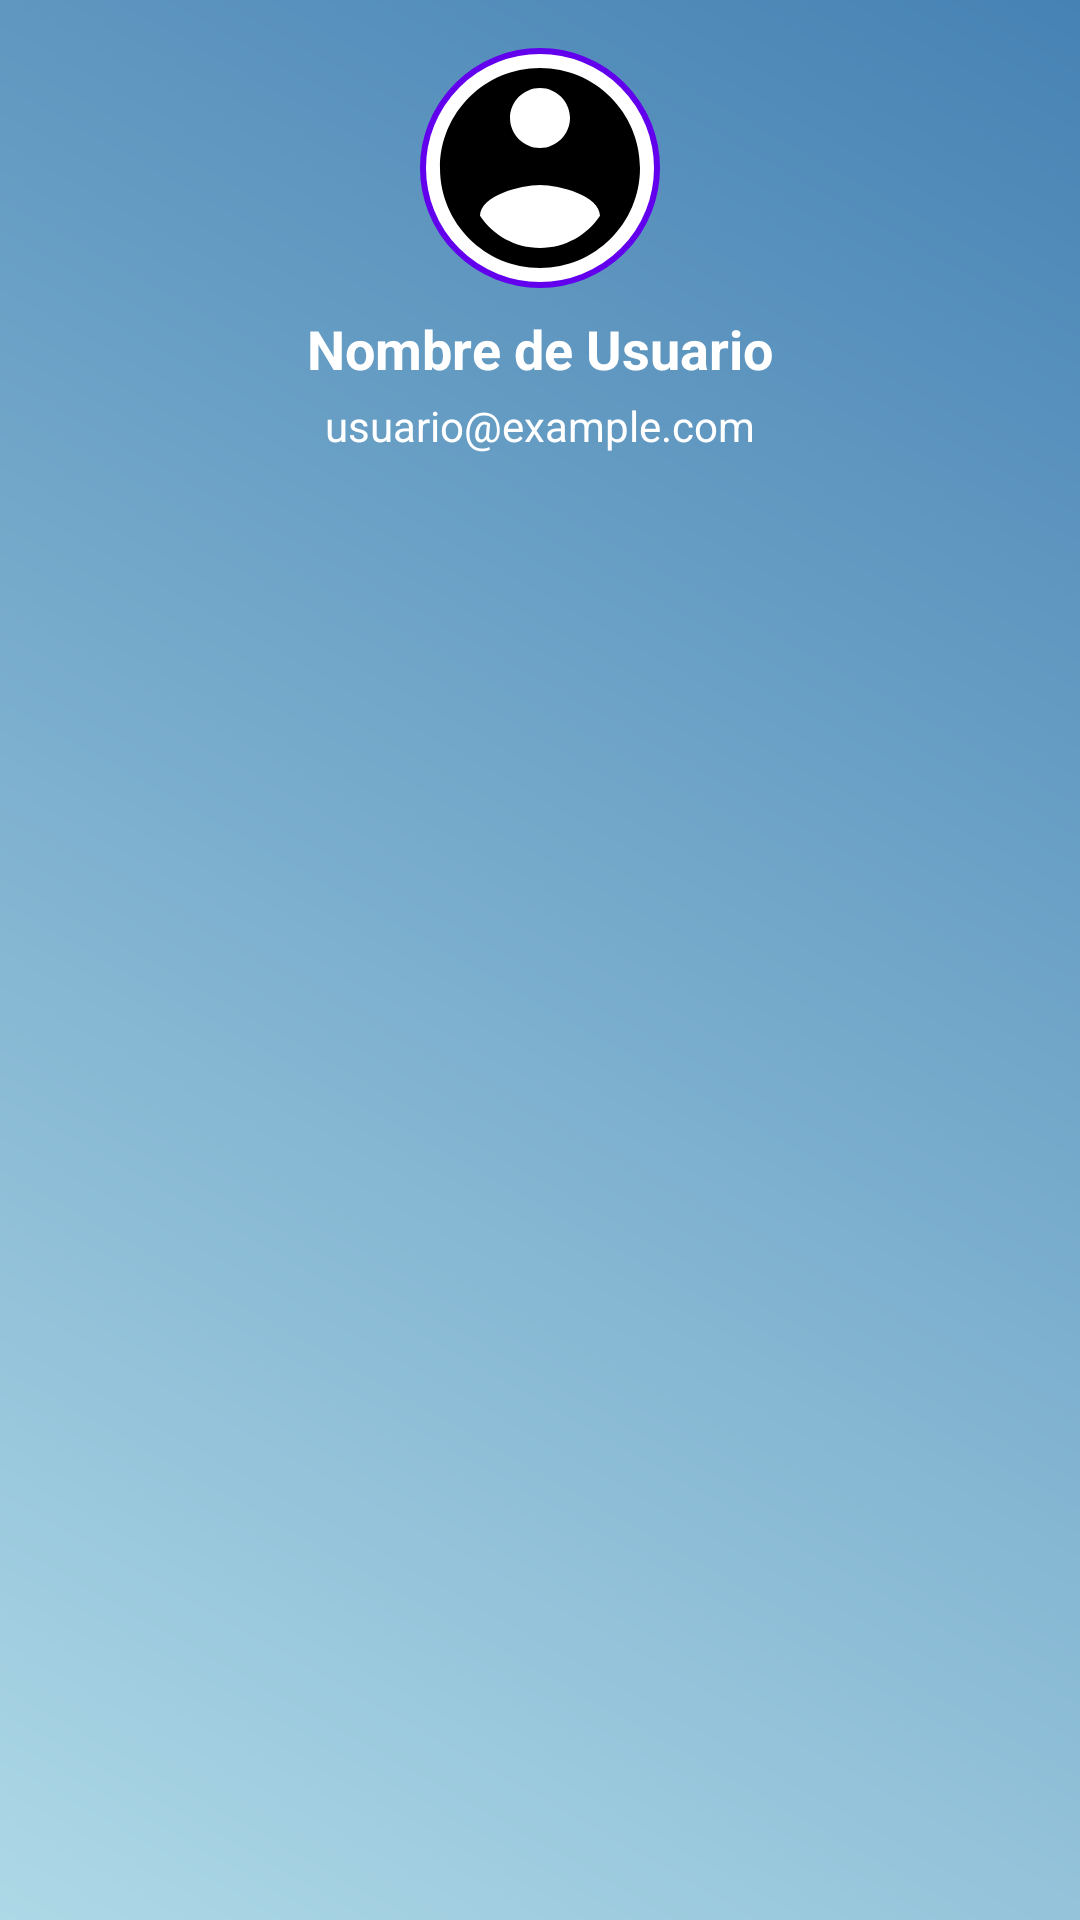

Icons on this 1080*1920 Android screen, each with the point to tap as (x=x, y=y):
Imagen de perfil: (x=540, y=168)
